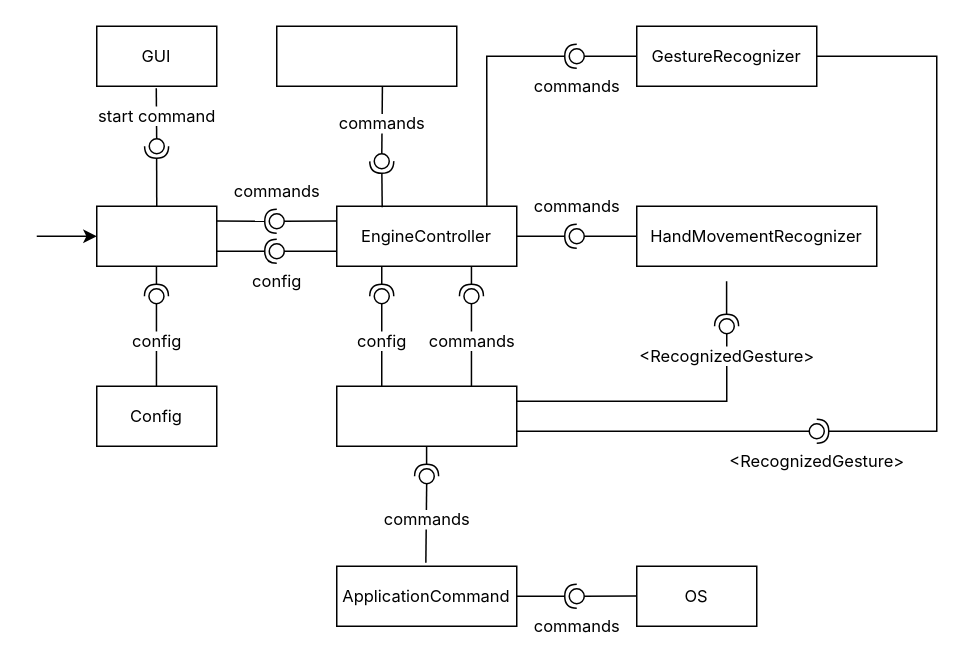
This 975x662 diagram has some shape labels left out. Here are the shapes that lost their labels. From the top down, the box of each, then its label:
(275, 25, 457, 86): CameraHandler
(95, 205, 217, 266): EntryPoint
(335, 385, 517, 446): GestureInterpreter
